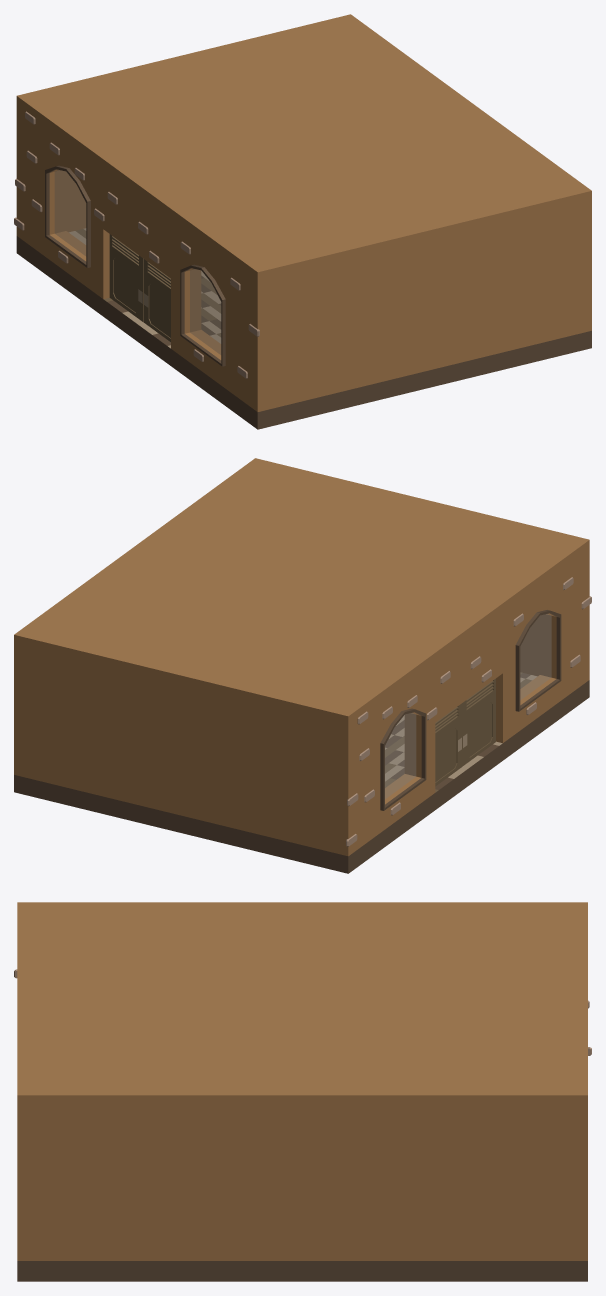
File: Tienda cerrada 3.fbx
3 renders of one model, top to bottom at view 1: azimuth 30°, elevation 25°; view 2: azimuth 150°, elevation 25°; view 3: azimuth 270°, elevation 25°, orthographic. The views are drawn at different scales.
Visible parts, largest first — view 1: Pared_21x10x4, Pared_1x10x16, polySurface44, Pared2_1x10x51, Esquina_1x10x46, Esquina_1x10x1, Pared_21x10x27, Esquina_1x10x45, polySurface47, polySurface46, Pared_21x10x28, Pared2_1x10x16; view 2: Pared_21x10x4, Pared2_1x10x16, polySurface44, Pared2_1x10x51, Esquina_1x10x45, Esquina_1x10x8, Esquina_1x10x46, Pared_21x10x28, polySurface47, polySurface46, Pared_21x10x27, Pared_1x10x16; view 3: Pared_21x10x4, Pared_21x10x1, Pared2_1x10x51, Esquina_1x10x1, Esquina_1x10x8.
Part boxes in pixels (bbox=[...]): Pared_21x10x4: bbox=[16, 14, 591, 289]; Pared_1x10x16: bbox=[291, 216, 558, 403]; polySurface44: bbox=[36, 128, 238, 397]; Pared2_1x10x51: bbox=[16, 228, 591, 429]; Esquina_1x10x46: bbox=[238, 276, 291, 411]; Esquina_1x10x1: bbox=[558, 208, 591, 338]; Pared_21x10x27: bbox=[109, 234, 143, 321]; Esquina_1x10x45: bbox=[16, 113, 35, 249]; polySurface47: bbox=[190, 269, 220, 354]; polySurface46: bbox=[55, 170, 85, 255]; Pared_21x10x28: bbox=[143, 259, 170, 341]; Pared2_1x10x16: bbox=[66, 172, 86, 231]; Pared_21x10x4: bbox=[14, 458, 589, 733]; Pared2_1x10x16: bbox=[47, 660, 314, 847]; polySurface44: bbox=[367, 572, 570, 841]; Pared2_1x10x51: bbox=[14, 672, 589, 873]; Esquina_1x10x45: bbox=[315, 720, 367, 856]; Esquina_1x10x8: bbox=[14, 652, 47, 782]; Esquina_1x10x46: bbox=[570, 557, 589, 693]; Pared_21x10x28: bbox=[462, 678, 495, 765]; polySurface47: bbox=[520, 614, 551, 699]; polySurface46: bbox=[385, 713, 415, 798]; Pared_21x10x27: bbox=[435, 703, 462, 786]; Pared_1x10x16: bbox=[520, 616, 539, 676]; Pared_21x10x4: bbox=[17, 902, 587, 1115]; Pared_21x10x1: bbox=[63, 1116, 542, 1260]; Pared2_1x10x51: bbox=[17, 1261, 587, 1281]; Esquina_1x10x1: bbox=[17, 1116, 62, 1260]; Esquina_1x10x8: bbox=[542, 1116, 587, 1260].
Bounding box in the file's own units: 20.21 × 9 × 25.32.
